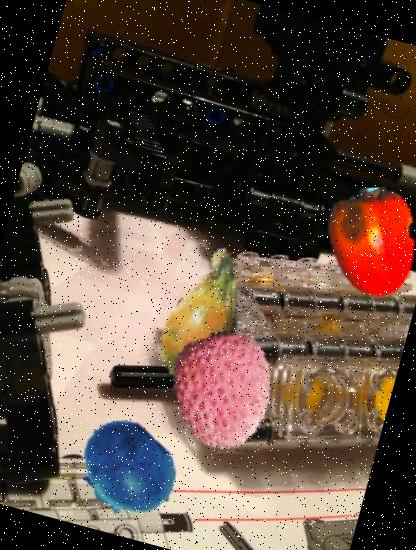Cactus: (123, 231, 292, 400)
Huckleberry: (65, 408, 189, 532)
Kaki: (304, 176, 416, 311)
Lychee: (151, 318, 297, 464)
